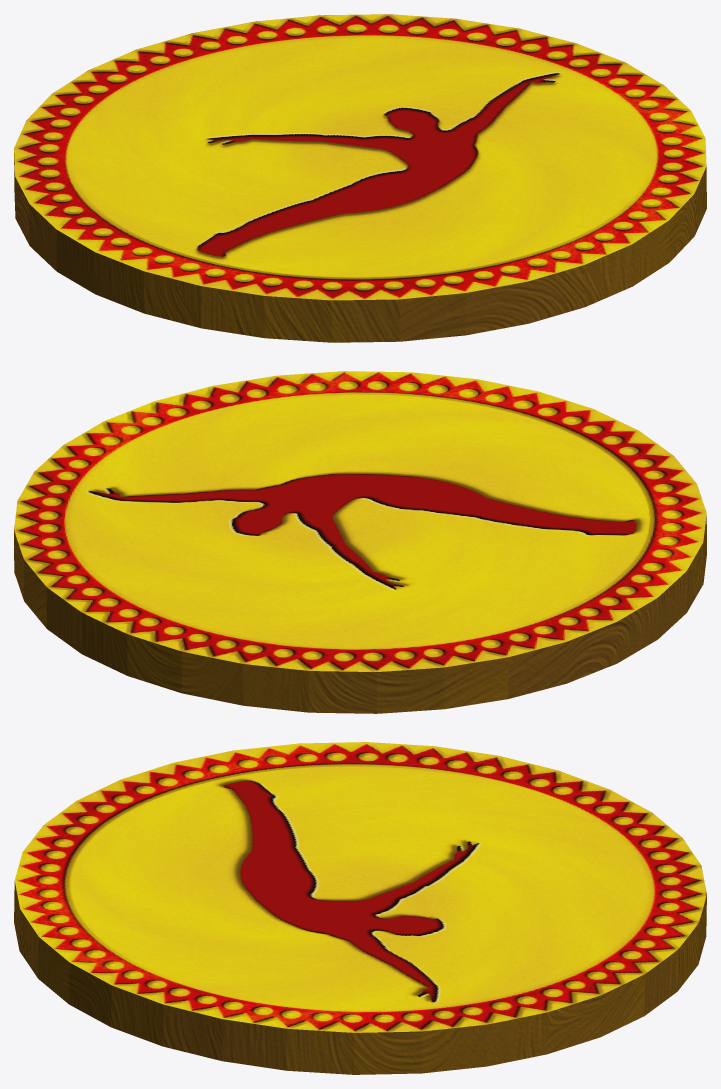
Rendered from groovecoin3.dae.
The picture shows the model from 3 angles, top to bottom: view 1: azimuth 30°, elevation 25°; view 2: azimuth 150°, elevation 25°; view 3: azimuth 270°, elevation 25°; orthographic projection.
Visible parts, largest first — view 1: Cylinder; view 2: Cylinder; view 3: Cylinder.
Part boxes in pixels (x1=…): Cylinder: x1=14, y1=14, x2=706, y2=342; Cylinder: x1=14, y1=371, x2=706, y2=713; Cylinder: x1=14, y1=742, x2=706, y2=1074.
Bounding box in the file's own units: 2 × 2 × 0.1623.
1 material, 1 textured.
